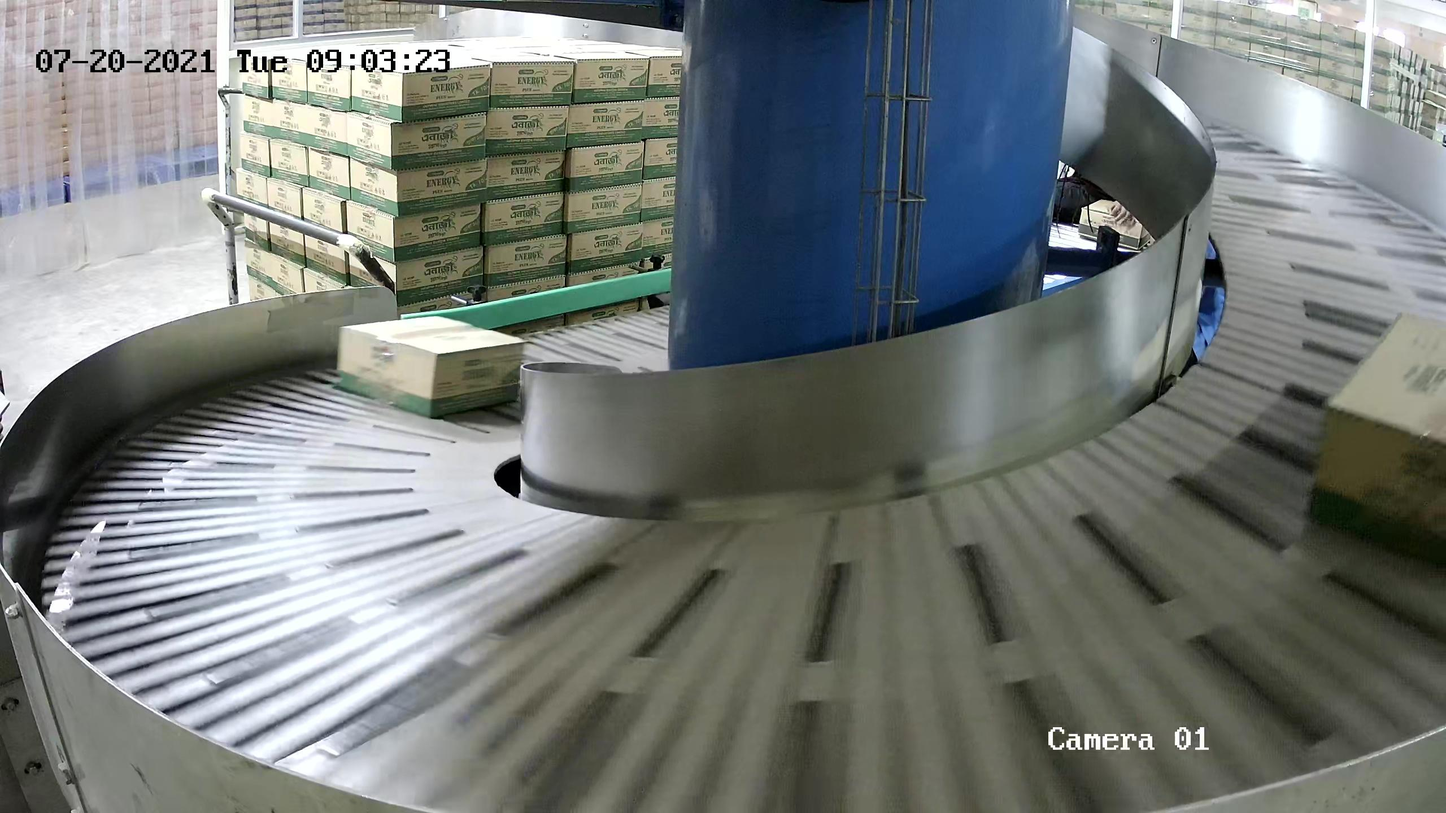Box: (1306, 310, 1446, 578), (335, 315, 526, 419)
